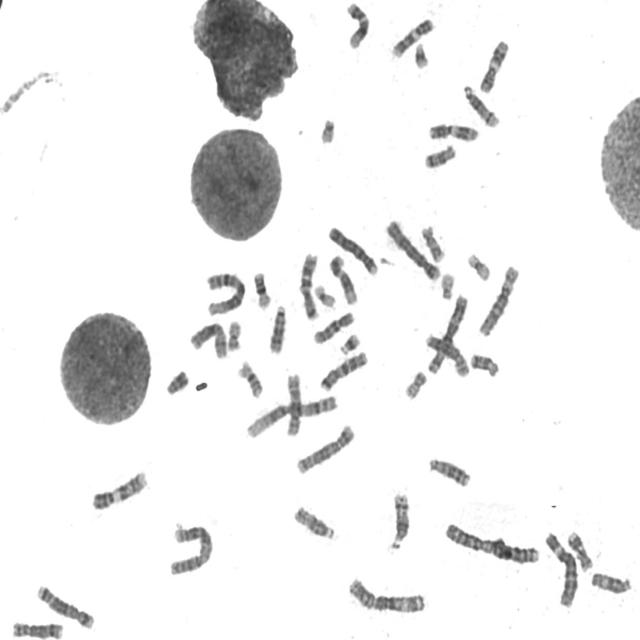A1: (244, 392, 339, 440), (203, 268, 247, 318)
A2: (442, 517, 542, 566), (166, 521, 214, 576)
A3: (424, 291, 470, 375), (344, 573, 426, 615)
B4: (382, 216, 442, 282), (326, 222, 380, 278)
B5: (293, 420, 356, 476), (34, 581, 96, 630)
C10: (310, 308, 355, 345), (282, 369, 302, 437)
C11: (476, 36, 510, 94), (426, 119, 480, 142)
C12: (326, 252, 359, 306), (343, 0, 371, 50)
C6: (476, 261, 520, 338), (542, 528, 579, 608)
C7: (316, 347, 369, 392), (296, 249, 321, 322)
C8: (423, 330, 471, 380), (9, 618, 64, 640)
C9: (89, 466, 149, 512), (389, 14, 435, 59)
D13: (425, 453, 471, 489), (266, 301, 288, 355)
D14: (460, 81, 501, 129), (387, 488, 411, 550)
D15: (290, 501, 337, 542), (588, 568, 633, 596)
E16: (234, 356, 264, 399), (250, 268, 273, 310)
E17: (564, 527, 594, 573), (418, 222, 446, 264)
E18: (421, 140, 457, 170), (468, 349, 500, 379)
F19: (464, 249, 492, 282), (311, 280, 337, 310)
F20: (402, 366, 428, 401), (224, 317, 243, 352)
G21: (336, 329, 362, 356), (411, 39, 430, 69)
G22: (316, 114, 336, 146), (438, 269, 456, 300)
X: (187, 318, 229, 360)
Y: (162, 366, 190, 397)
